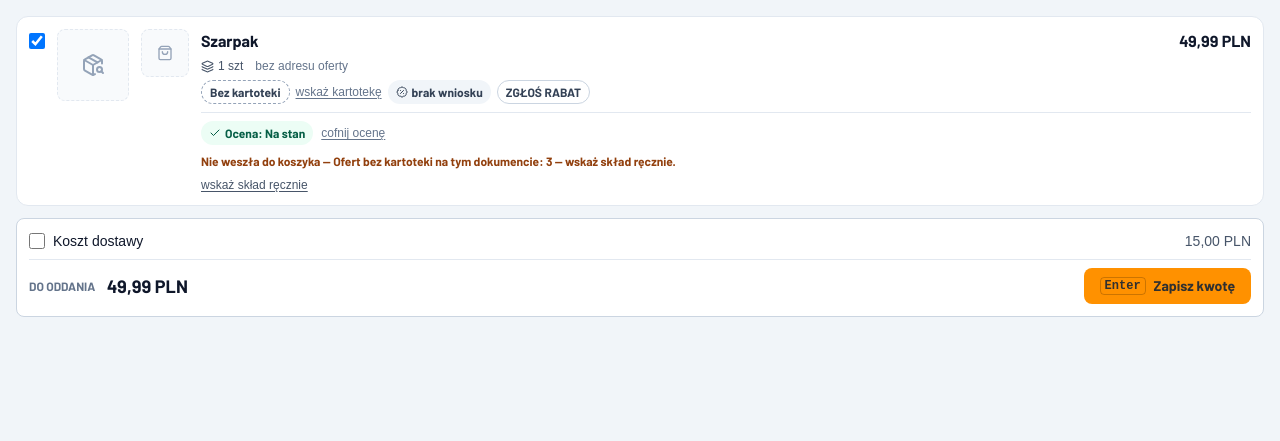
Scenario: Ręczne wskazanie składu (0.336.0) › powód niewejścia niesie DROGĘ WYJŚCIA, a nie samo zdanie o kłopocie
Click the button "wskaż skład ręcznie" at (254, 185), box [201,177,308,193]
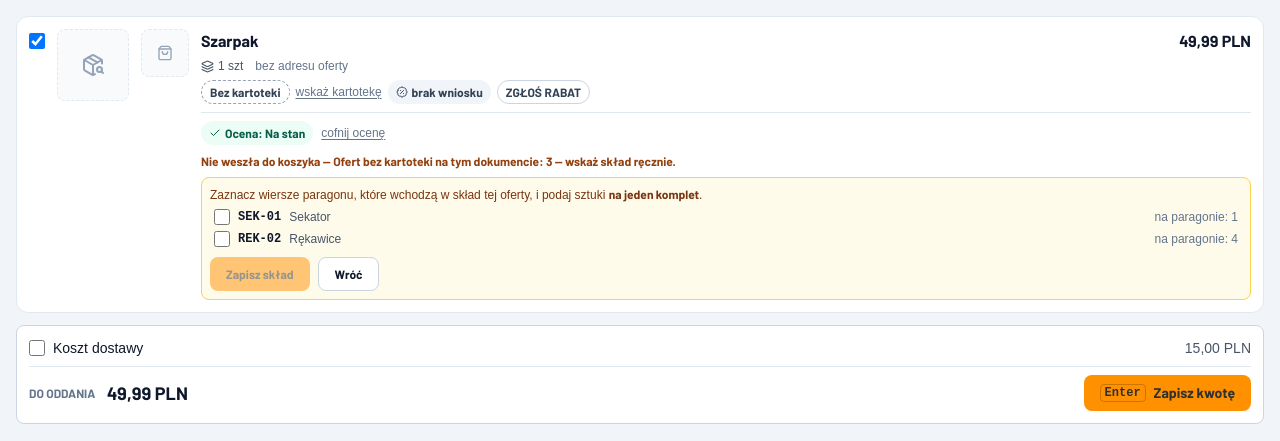
expect the text "Zaznacz wiersze paragonu" is shown: met, box [210,188,609,202]
expect the checkbox labelled "SEK-01 Sekator na paragonie: 1" is shown: met, box [214,209,230,225]
